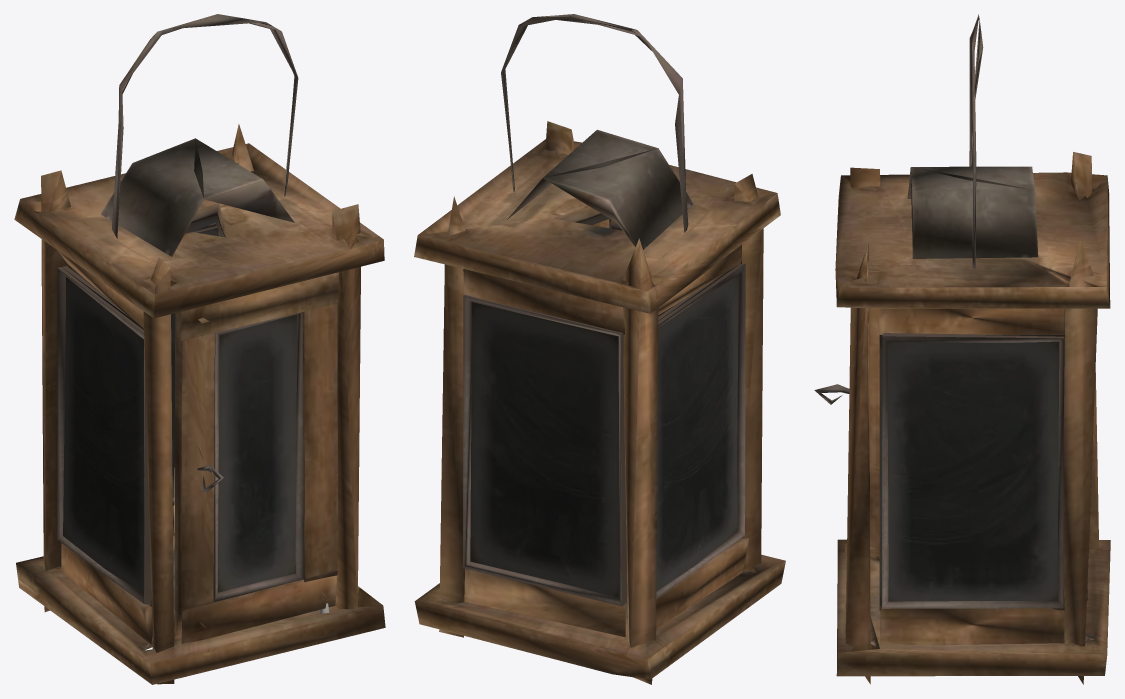
File: lantern-wood.glb
3 renders of one model, left to right at view 1: azimuth 30°, elevation 25°; view 2: azimuth 150°, elevation 25°; view 3: azimuth 270°, elevation 25°, orthographic.
Parts seen in each view (by area): view 1: wooden_lantern_01, wooden_lantern_01_door, wooden_lantern_01_handle; view 2: wooden_lantern_01, wooden_lantern_01_handle; view 3: wooden_lantern_01, wooden_lantern_01_handle.
Boxes of the visible parts, x1=… form: wooden_lantern_01: x1=14, y1=124, x2=385, y2=684; wooden_lantern_01_door: x1=174, y1=272, x2=338, y2=643; wooden_lantern_01_handle: x1=112, y1=14, x2=298, y2=238; wooden_lantern_01: x1=414, y1=121, x2=785, y2=684; wooden_lantern_01_handle: x1=501, y1=14, x2=688, y2=232; wooden_lantern_01: x1=835, y1=152, x2=1110, y2=684; wooden_lantern_01_handle: x1=969, y1=14, x2=983, y2=269.
Bounding box in the file's own units: 0.2165 × 0.5291 × 0.2349.
Materials: 2 (2 with a texture image).
